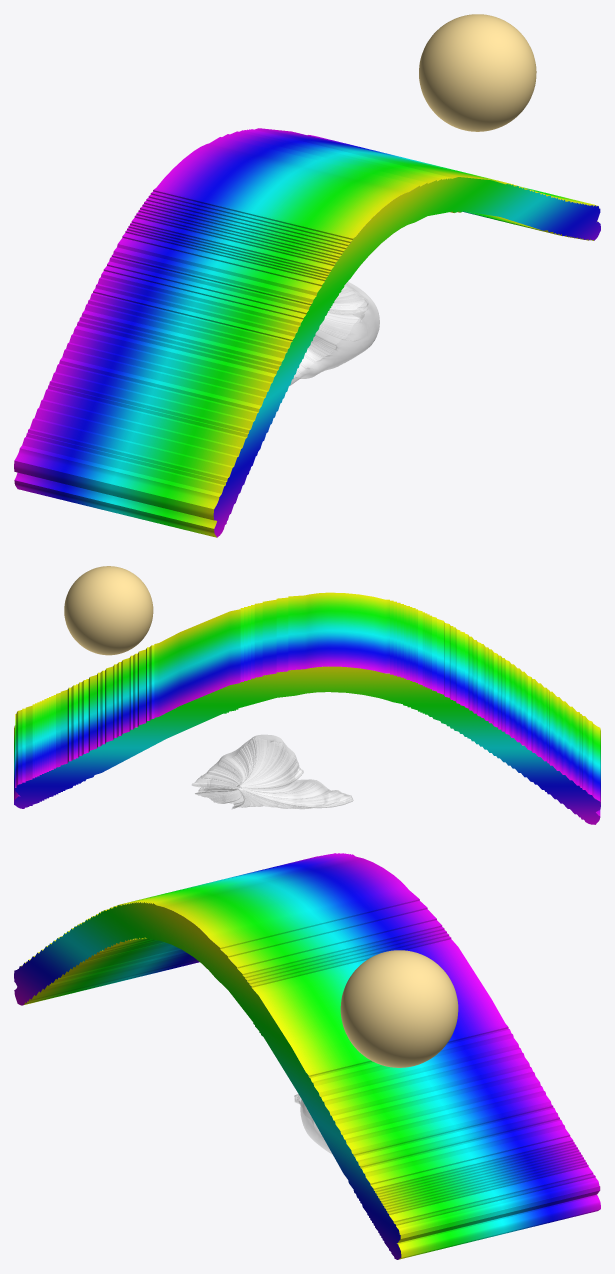
File: rainbow.gltf
The picture shows the model from 3 angles, top to bottom: view 1: azimuth 30°, elevation 25°; view 2: azimuth 150°, elevation 25°; view 3: azimuth 270°, elevation 25°; orthographic projection. The views are drawn at different scales.
Visible parts, largest first — view 1: Vector Smart Object 2, Sphere, Vector Smart Object; view 2: Vector Smart Object 2, Vector Smart Object, Sphere; view 3: Vector Smart Object 2, Sphere, Vector Smart Object.
Boxes of the visible parts, x1,y1,x2,y2 form: Vector Smart Object 2: [14, 128, 600, 537]; Sphere: [419, 14, 536, 131]; Vector Smart Object: [289, 282, 379, 385]; Vector Smart Object 2: [14, 592, 600, 824]; Vector Smart Object: [192, 734, 353, 809]; Sphere: [64, 566, 153, 655]; Vector Smart Object 2: [14, 853, 600, 1259]; Sphere: [340, 950, 458, 1067]; Vector Smart Object: [294, 1094, 332, 1154].
Size of the model in its own units: 6.3 by 2.54 by 4.71.
Materials: 3 (1 with a texture image).
